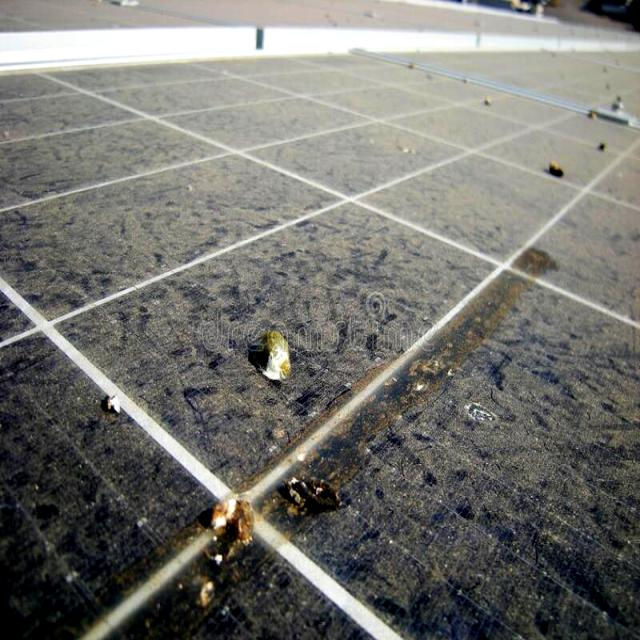bird: (190, 496, 271, 605), (231, 324, 318, 397), (411, 339, 469, 395), (285, 479, 353, 519), (544, 138, 580, 194), (90, 388, 134, 419)
